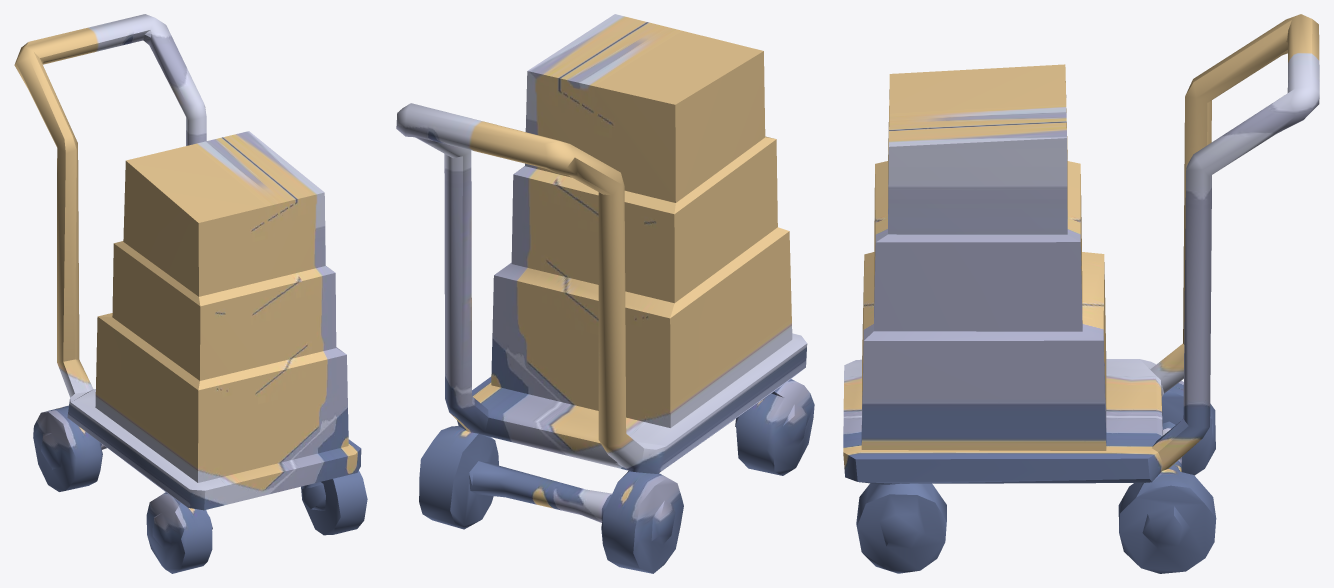
3 views of the same model, side by side, from view 1: azimuth 30°, elevation 25°; view 2: azimuth 150°, elevation 25°; view 3: azimuth 270°, elevation 25° (orthographic). The views are drawn at different scales.
Visible parts, largest first — view 1: Decor_hand_truck_c; view 2: Decor_hand_truck_c; view 3: Decor_hand_truck_c.
Boxes of the visible parts, bbox=[...] form: Decor_hand_truck_c: bbox=[14, 14, 367, 573]; Decor_hand_truck_c: bbox=[396, 14, 814, 573]; Decor_hand_truck_c: bbox=[843, 14, 1319, 573].
Bounding box in the file's own units: 0.6723 × 1.29 × 1.19.
Materials: 1 (1 with a texture image).
